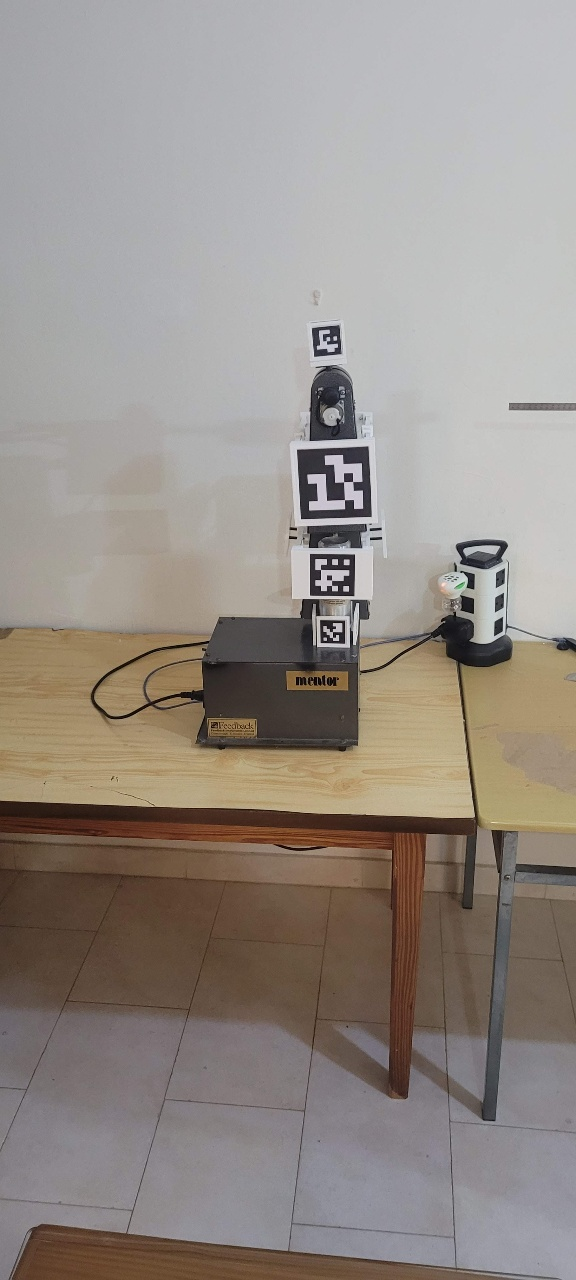Robot: (284, 319, 383, 651)
